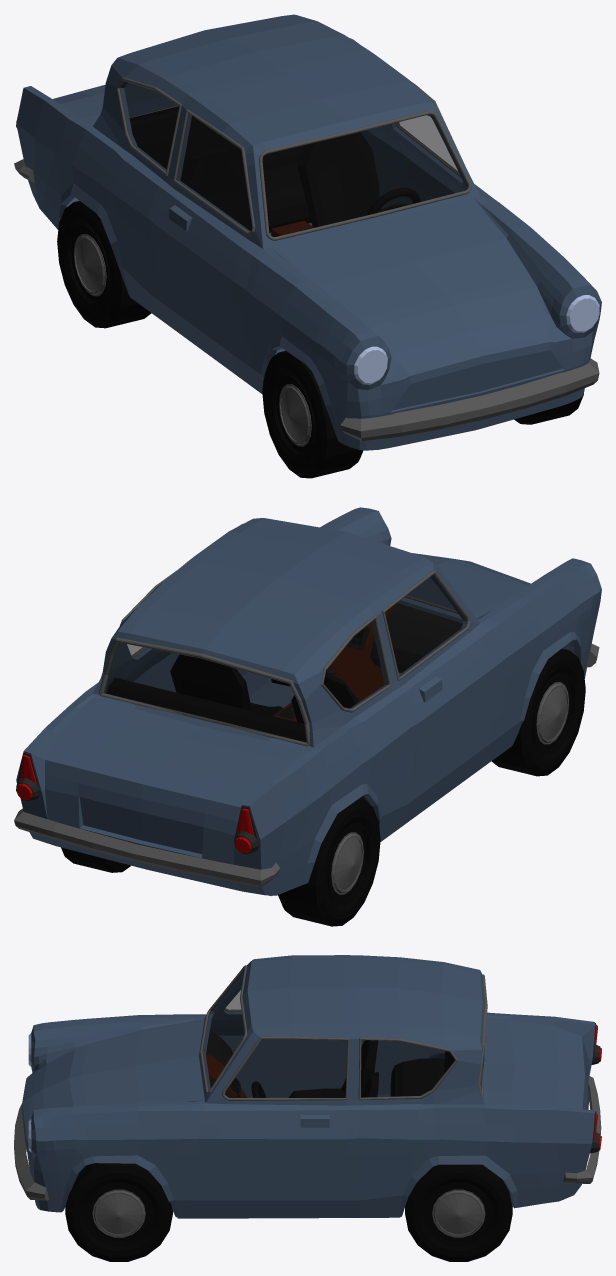
File: car.glb
3 views of the same model, one above another, from view 1: azimuth 30°, elevation 25°; view 2: azimuth 150°, elevation 25°; view 3: azimuth 270°, elevation 25° (orthographic). The views are drawn at different scales.
Parts seen in each view (by area): view 1: Plane, Plane.029, Plane.001, Cylinder.023, Cylinder.024, Plane.018, Cube.077, Cube.076, Plane.022, Cube.062, Plane.021; view 2: Plane, Plane.029, Cylinder.024, Plane.001, Cylinder.023, Plane.019, Cube.077, Cube.076, Cube.072, Plane.022, Plane.023, Cube.071 (+4 smaller); view 3: Plane, Plane.001, Cylinder.023, Cylinder.024, Plane.022, Plane.029, Cube.077, Plane.018, Cube.062, Plane.019, Cube.072, Plane.023 (+1 smaller).
Boxes of the visible parts, bbox=[...] form: Plane: bbox=[16, 14, 601, 450]; Plane.029: bbox=[125, 83, 467, 236]; Plane.001: bbox=[119, 81, 457, 231]; Cylinder.023: bbox=[262, 351, 583, 478]; Cylinder.024: bbox=[57, 201, 151, 328]; Plane.018: bbox=[340, 358, 599, 440]; Cube.077: bbox=[129, 106, 379, 232]; Cube.076: bbox=[297, 132, 381, 227]; Plane.022: bbox=[116, 38, 471, 240]; Cube.062: bbox=[181, 148, 252, 230]; Plane.021: bbox=[354, 295, 599, 384]; Plane: bbox=[16, 507, 601, 895]; Plane.029: bbox=[104, 578, 454, 741]; Cylinder.024: bbox=[61, 799, 380, 926]; Plane.001: bbox=[127, 575, 467, 708]; Cylinder.023: bbox=[271, 648, 585, 776]; Plane.019: bbox=[14, 808, 280, 887]; Cube.077: bbox=[106, 677, 371, 805]; Cube.076: bbox=[170, 654, 283, 715]; Cube.072: bbox=[370, 603, 462, 673]; Plane.022: bbox=[120, 524, 470, 712]; Plane.023: bbox=[99, 637, 309, 746]; Cube.071: bbox=[273, 603, 397, 721]; Plane: bbox=[21, 955, 595, 1217]; Plane.001: bbox=[225, 991, 454, 1097]; Cylinder.023: bbox=[65, 1163, 172, 1261]; Cylinder.024: bbox=[405, 1164, 512, 1261]; Plane.022: bbox=[200, 965, 458, 1100]; Plane.029: bbox=[202, 969, 484, 1090]; Cube.077: bbox=[390, 1051, 454, 1096]; Plane.018: bbox=[14, 1104, 48, 1200]; Cube.062: bbox=[288, 1040, 378, 1097]; Plane.019: bbox=[563, 1076, 601, 1183]; Cube.072: bbox=[206, 1030, 232, 1097]; Plane.023: bbox=[478, 974, 487, 1100].
Size of the model in its own units: 1.62 by 1.54 by 3.7.
1 material, 1 textured.
